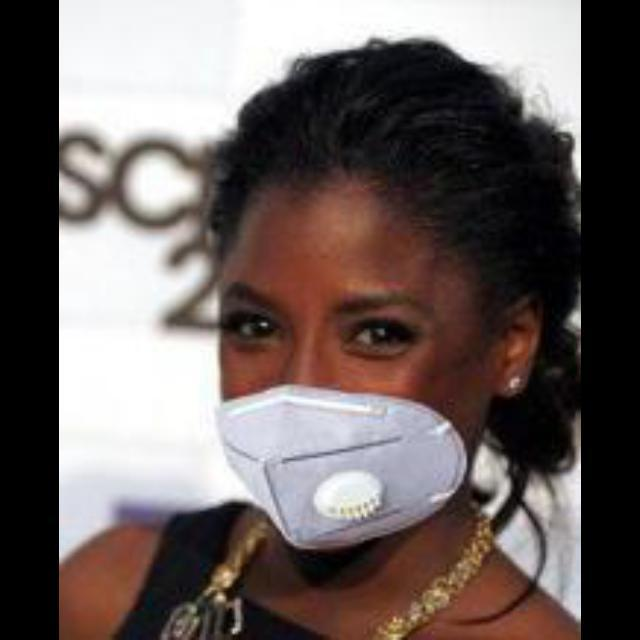suspicion: (172, 59, 550, 528)
